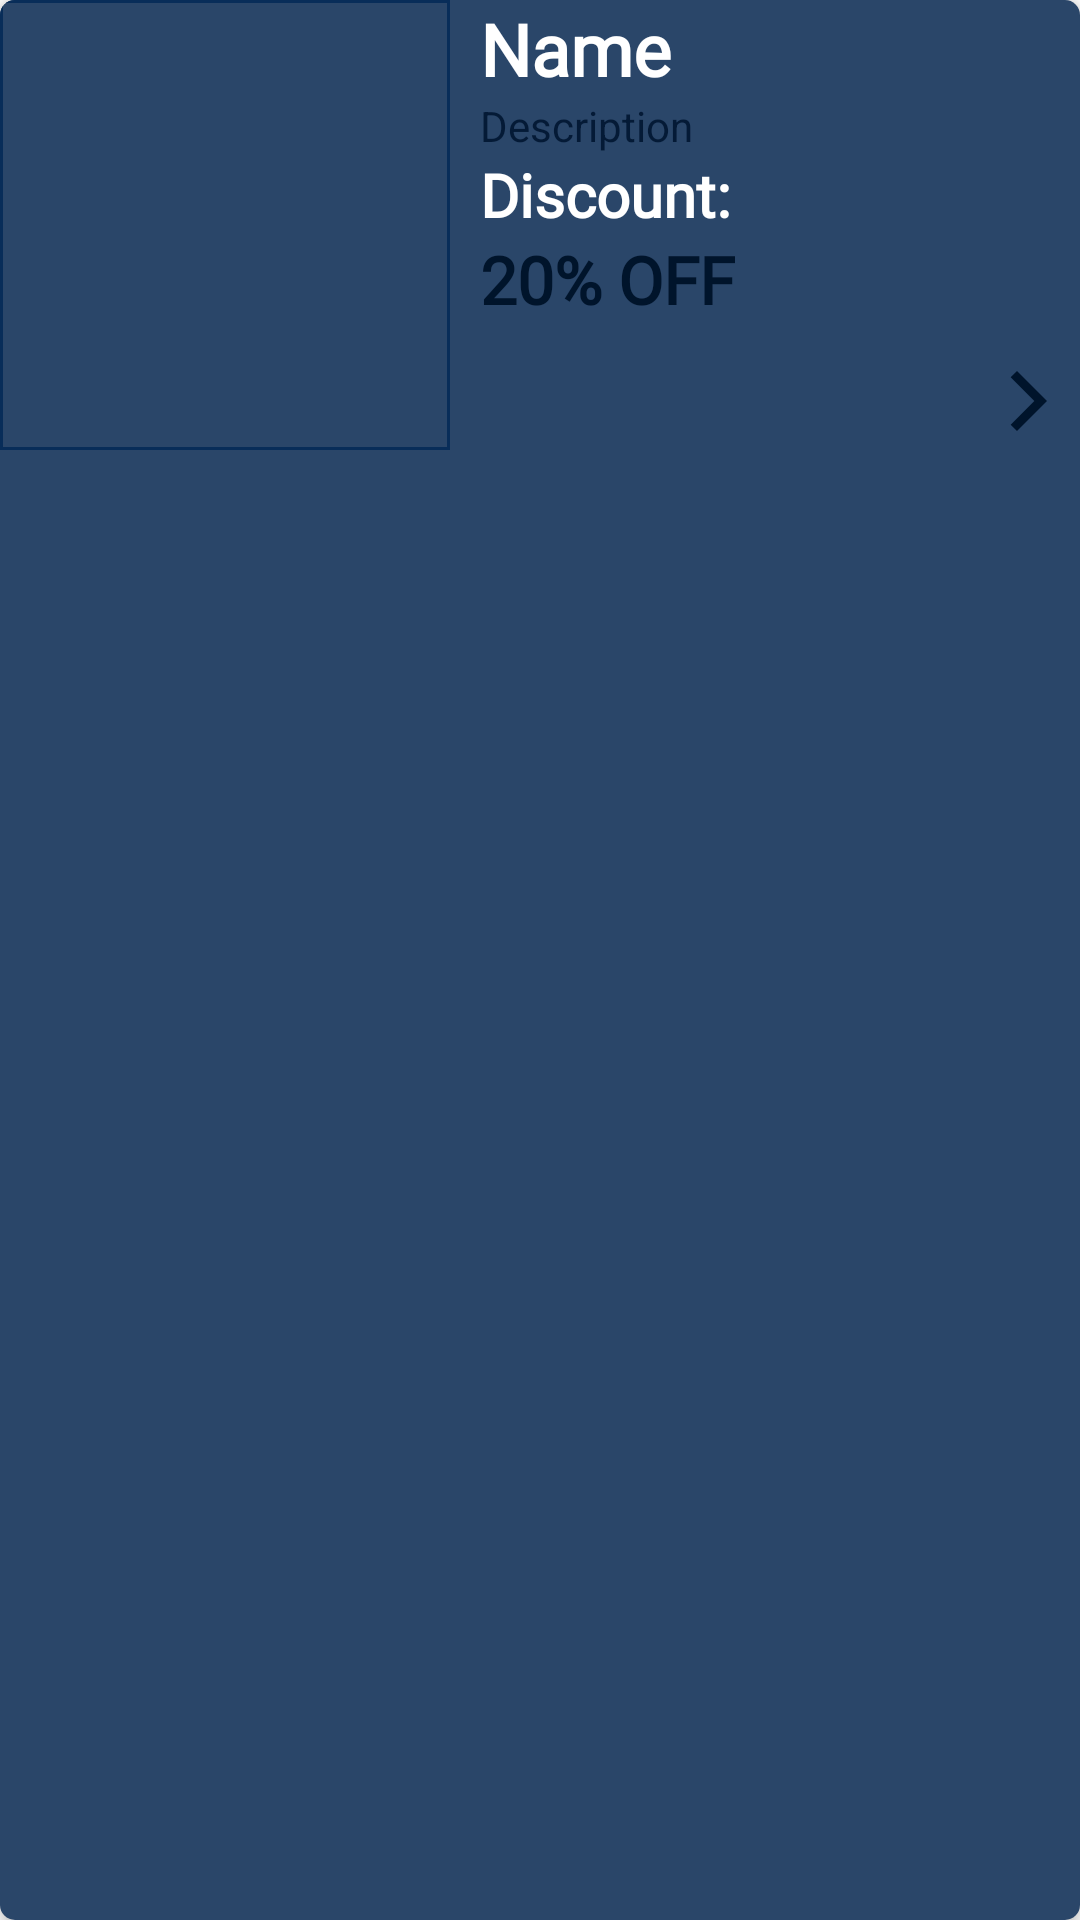

Locate icon controls on the screen. Image size 1080 x 1920, boxes as detection(x1, y1, x2, y2).
arrow forward: detection(1011, 371, 1047, 431)
